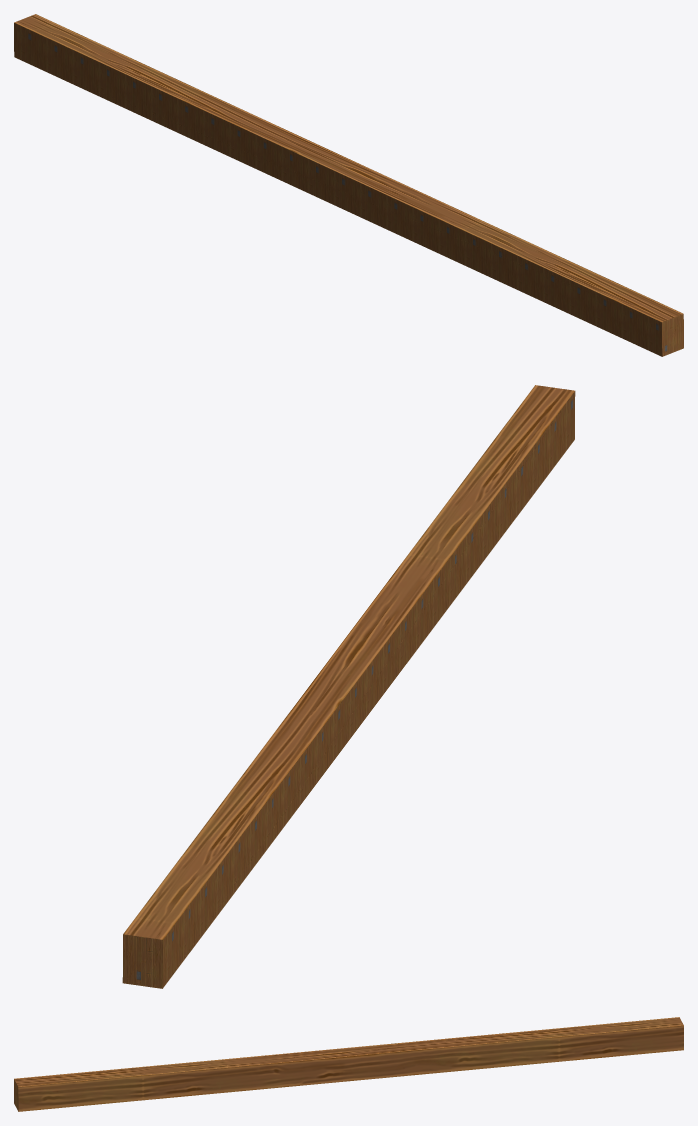
The picture shows the model from 3 angles, top to bottom: view 1: azimuth 30°, elevation 25°; view 2: azimuth 150°, elevation 25°; view 3: azimuth 270°, elevation 25°; orthographic projection. The views are drawn at different scales.
Visible parts, largest first — view 1: Cube.1897; view 2: Cube.1897; view 3: Cube.1897.
Part boxes in pixels (x1,y1,x2,y2): Cube.1897: [14, 14, 683, 356]; Cube.1897: [122, 385, 575, 988]; Cube.1897: [14, 1017, 683, 1111].
Size of the model in its own units: 117 by 19.24 by 471.
1 material, 1 textured.
